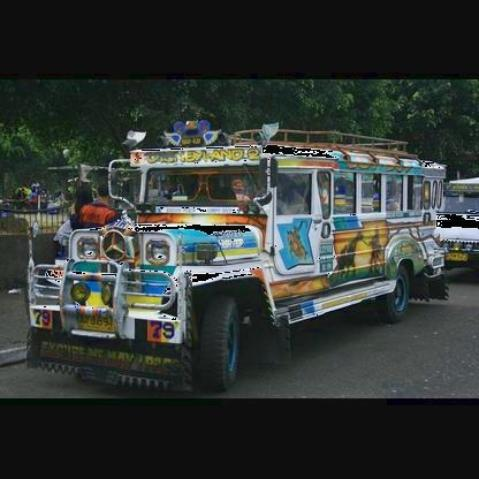jeepney: (26, 118, 440, 383)
